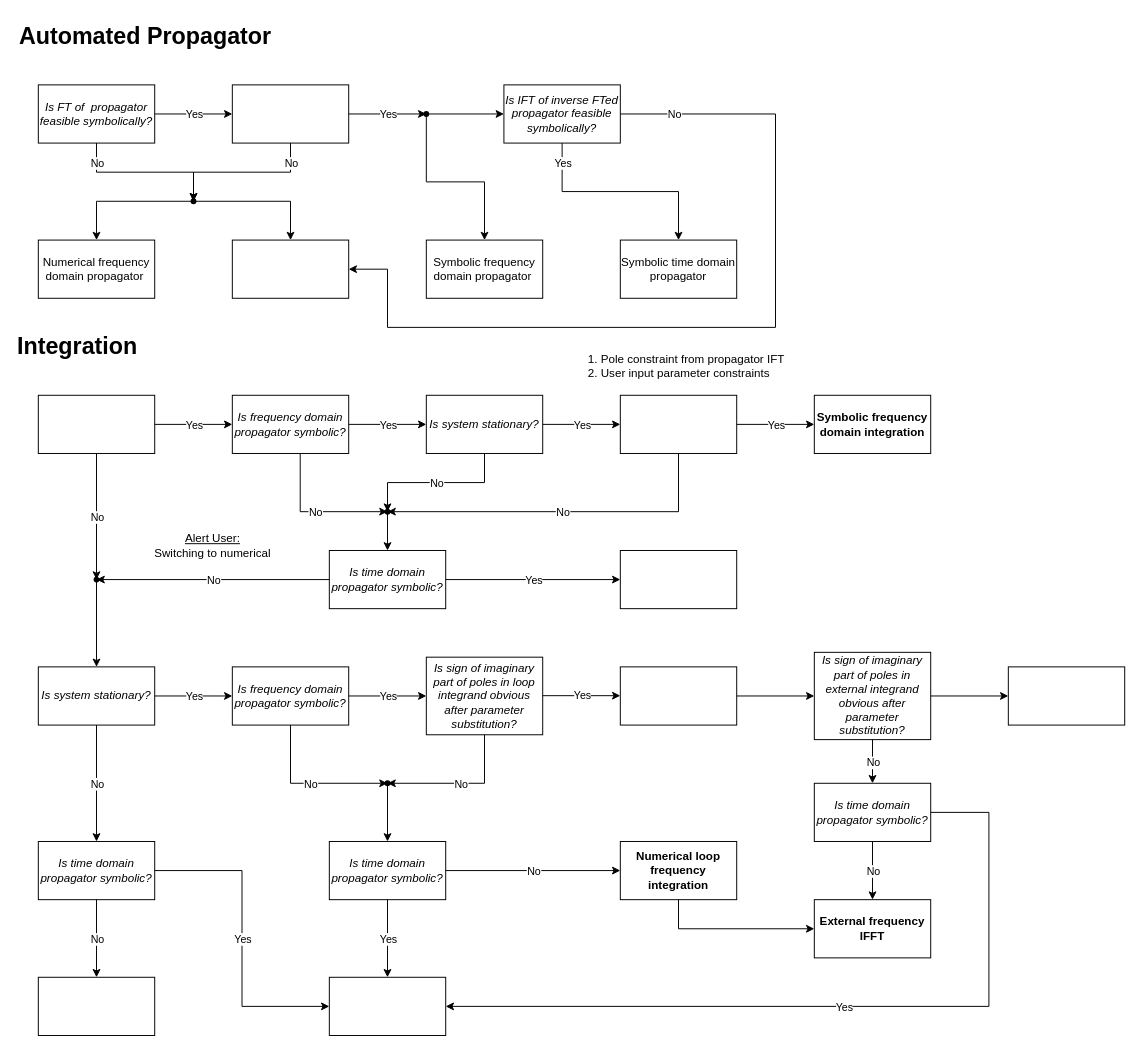
Some shapes in this 1142 by 1052 pixel diagram are drawn without their labels. The shapes that lost their labels are listed below. From the top down, each one's centre as x and y in pixels, then its label:
At pixel 290 113: "Is symbolic inverse of FTed propagator feasible? i.e. low D or sparse".
At pixel 290 268: "Numerical time domain propagator".
At pixel 96 423: "Does user want full symbolic?".
At pixel 678 423: "Is sign of imaginary part of poles obvious?".
At pixel 678 579: "Symbolic time domain integration".
At pixel 678 695: "Residue theorem for loop frequency integrals".
At pixel 1066 695: "Residue theorem for external frequency integrals".
At pixel 96 1005: "TBD".
At pixel 387 1005: "Numerical time domain integration".
